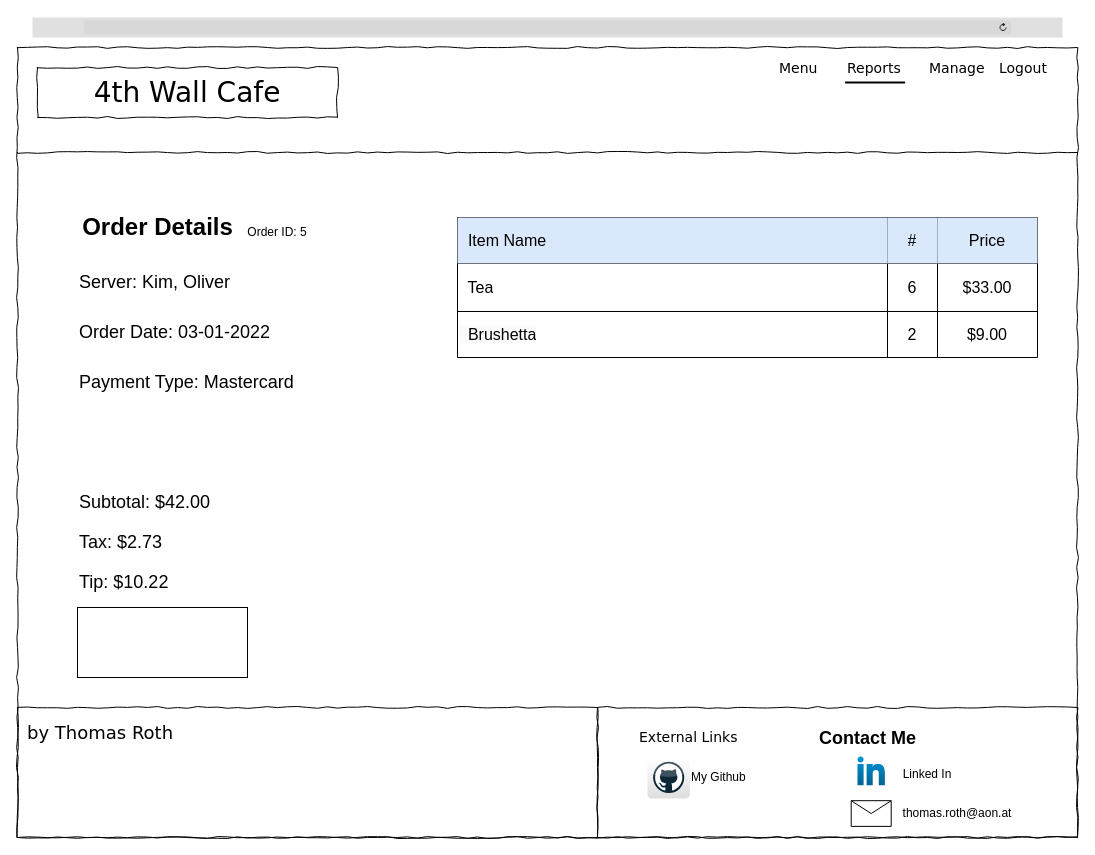
This 1095x855 diagram has some shape labels left out. The centre of each missing label's shape, as x and y in pixels:
4thWallCafe/Reports/Orders/5: (x=547, y=27)
Amount Due $54,95: (x=162, y=642)
